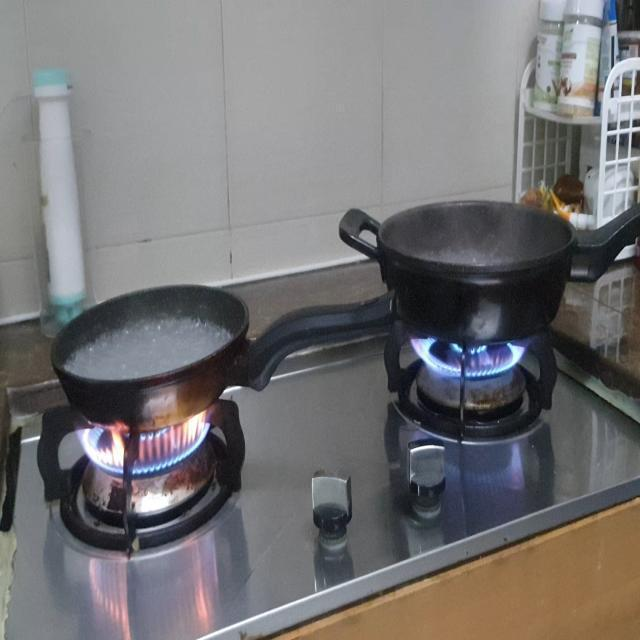smoke: (68, 409, 225, 486), (399, 308, 528, 394)
